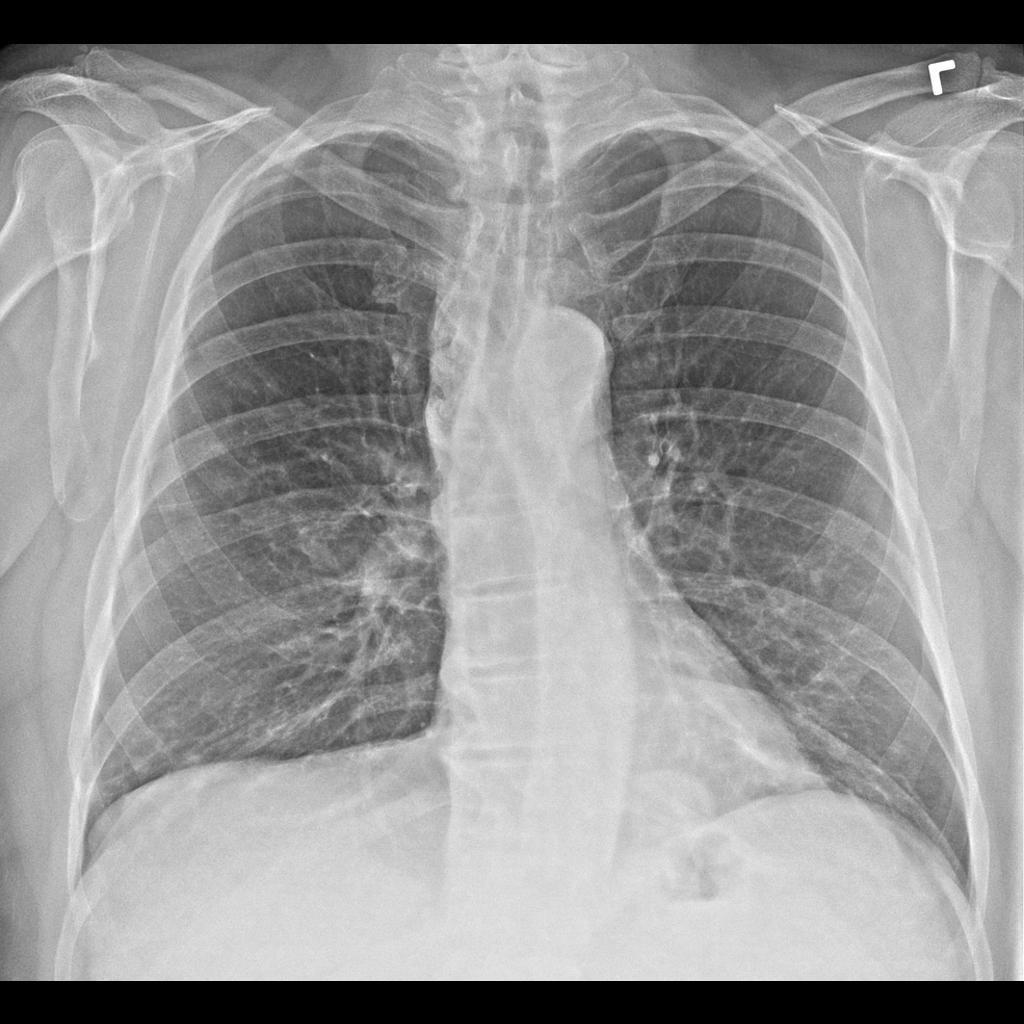Nodule: (621, 760, 718, 855)
